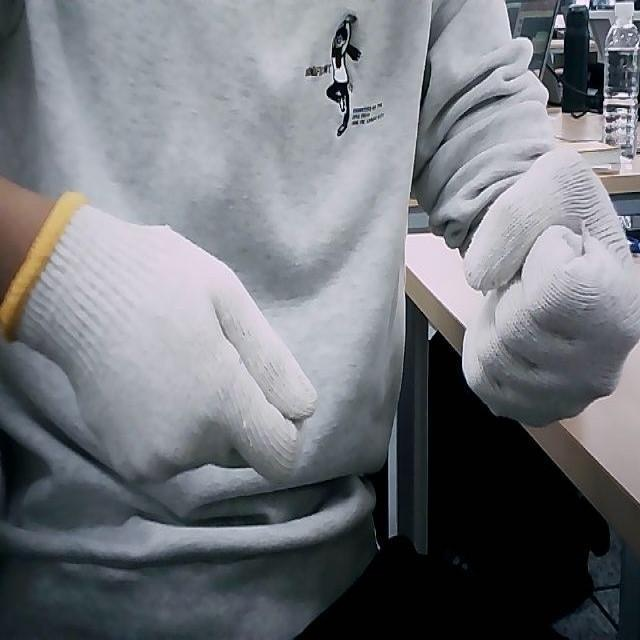Guantes: (1, 189, 320, 486), (461, 145, 640, 425)
